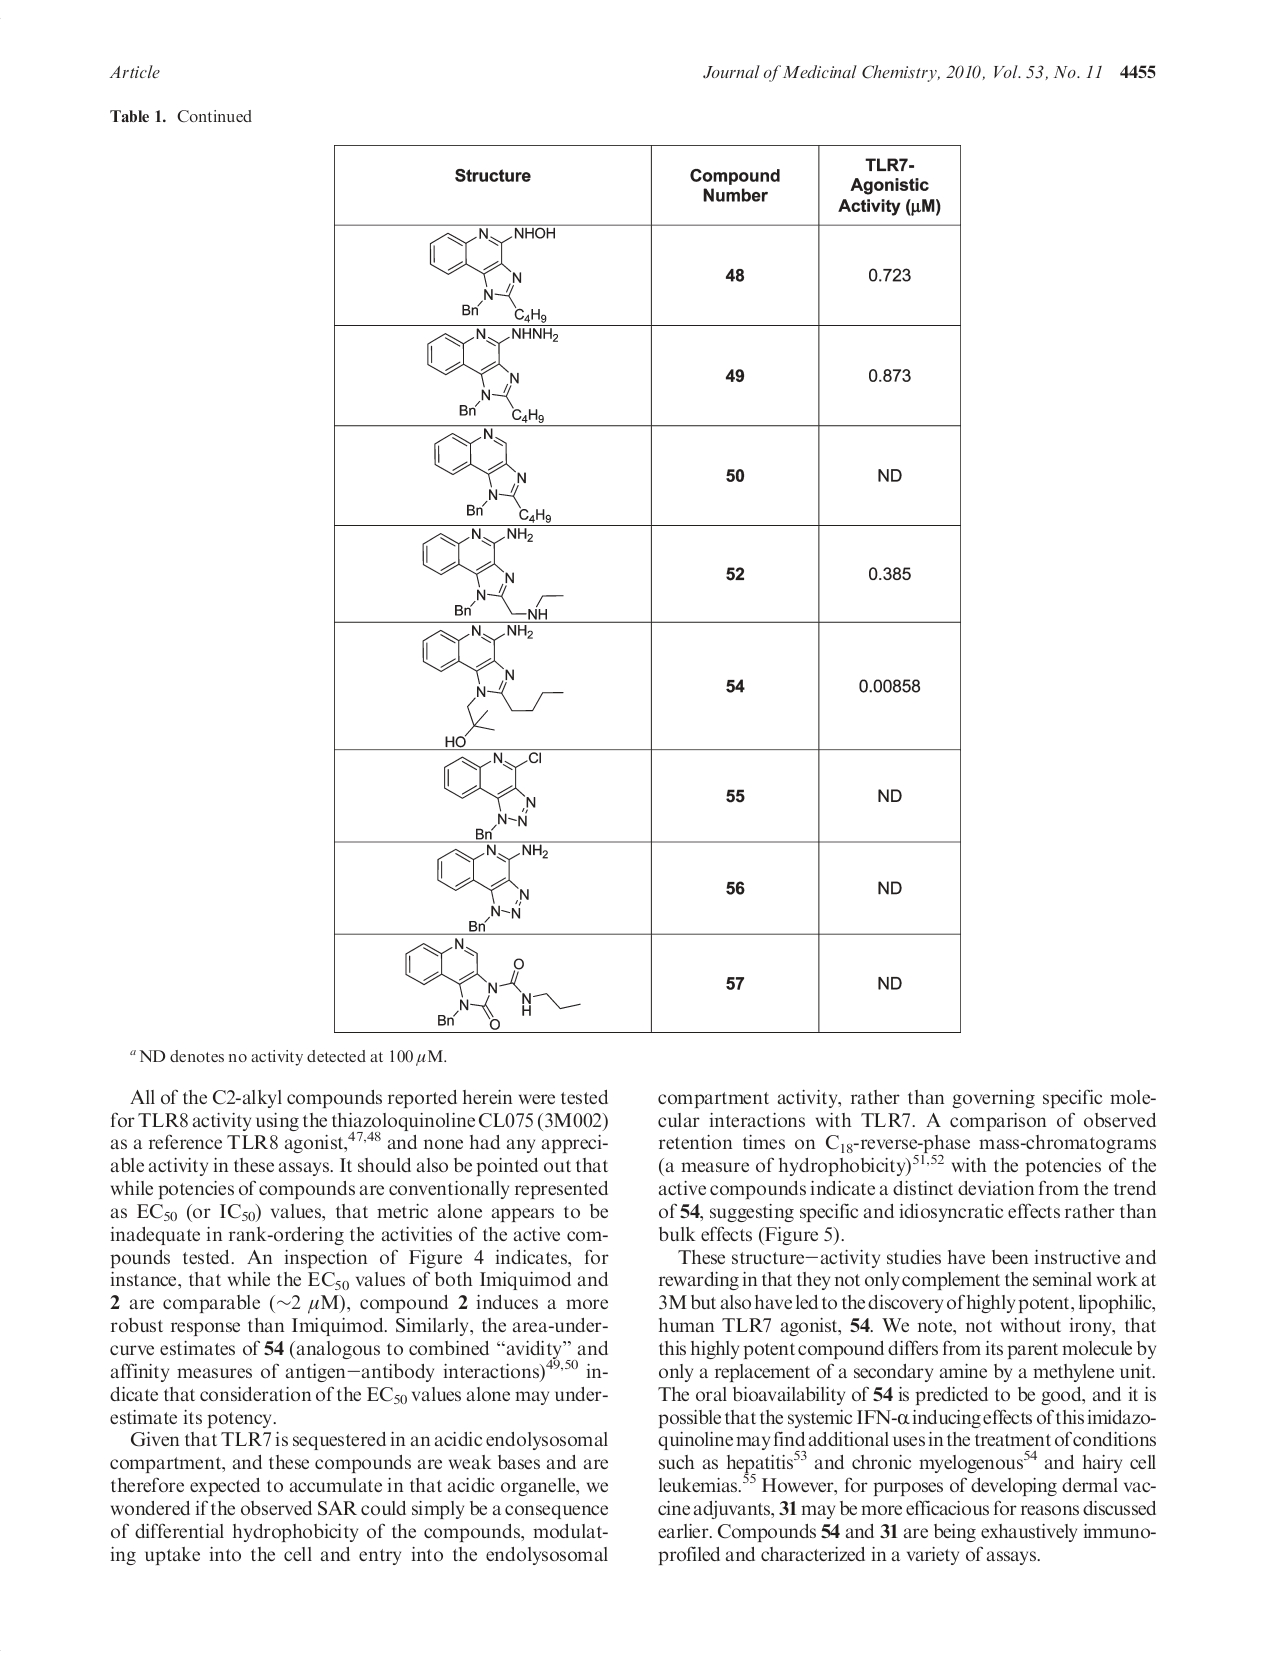exist_molecular: (420, 624, 567, 747), (404, 936, 584, 1031), (422, 525, 565, 620), (426, 328, 559, 424), (428, 227, 556, 324), (434, 428, 551, 524), (435, 844, 549, 931), (443, 750, 547, 840)
